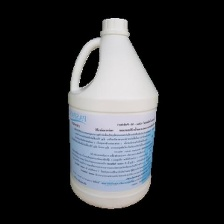cleaning_solution: (65, 15, 162, 212)
